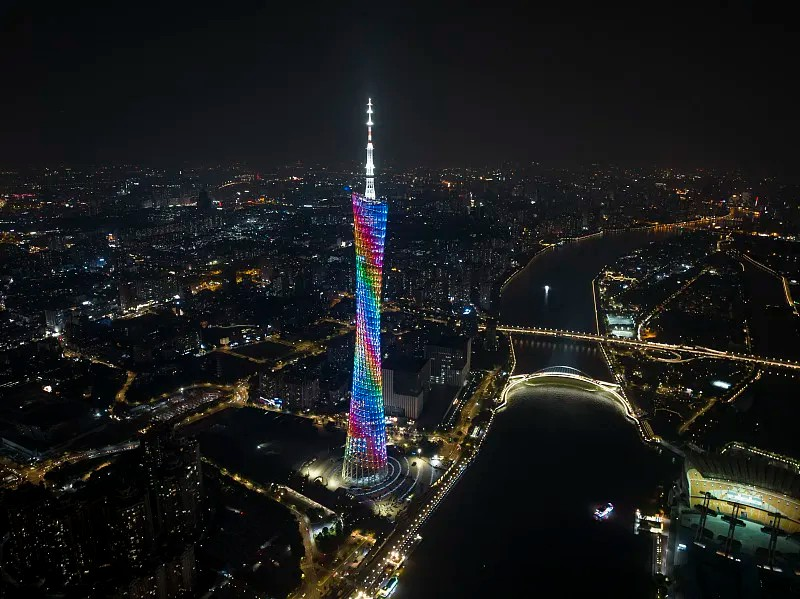Canton: (343, 97, 390, 483)
